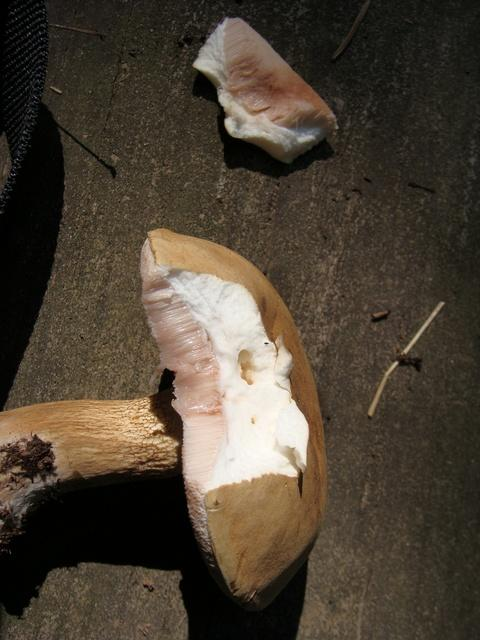poisonous_mushroom: (0, 201, 337, 600), (178, 6, 356, 169)
